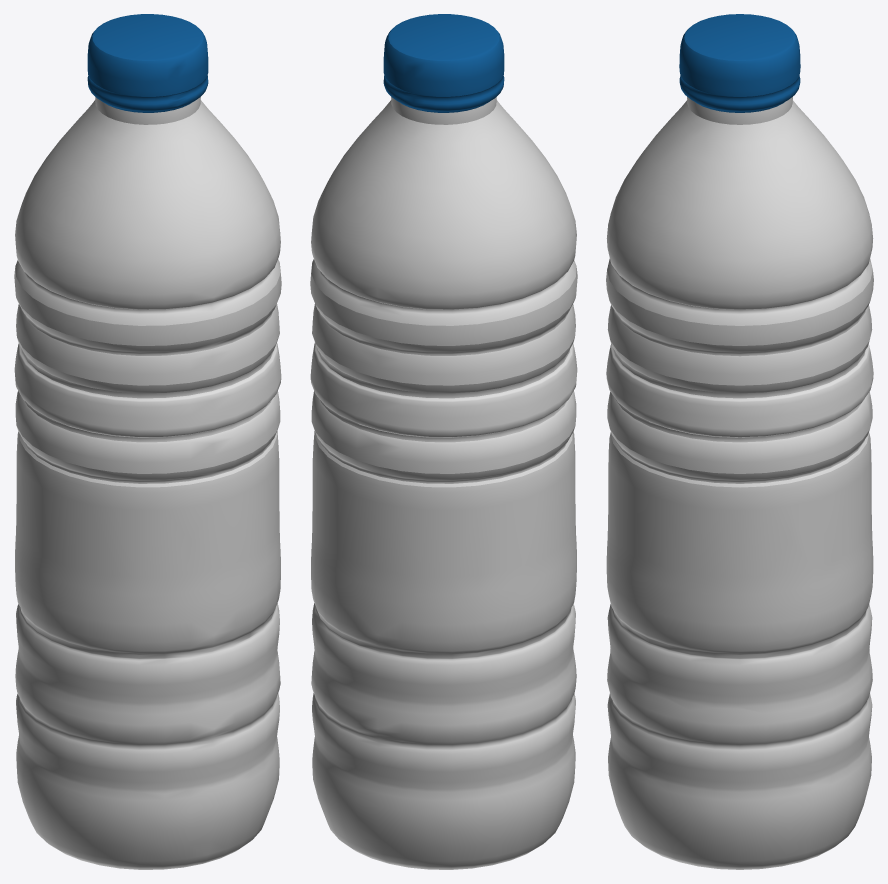
The picture shows the model from 3 angles, left to right: view 1: azimuth 30°, elevation 25°; view 2: azimuth 150°, elevation 25°; view 3: azimuth 270°, elevation 25°; orthographic projection.
Parts seen in each view (by area): view 1: Plastic bottle; view 2: Plastic bottle; view 3: Plastic bottle.
Boxes of the visible parts, bbox=[...] form: Plastic bottle: bbox=[14, 14, 281, 869]; Plastic bottle: bbox=[310, 14, 577, 869]; Plastic bottle: bbox=[606, 14, 873, 869].
Size of the model in its own units: 0.0704 by 0.2283 by 0.0704.
